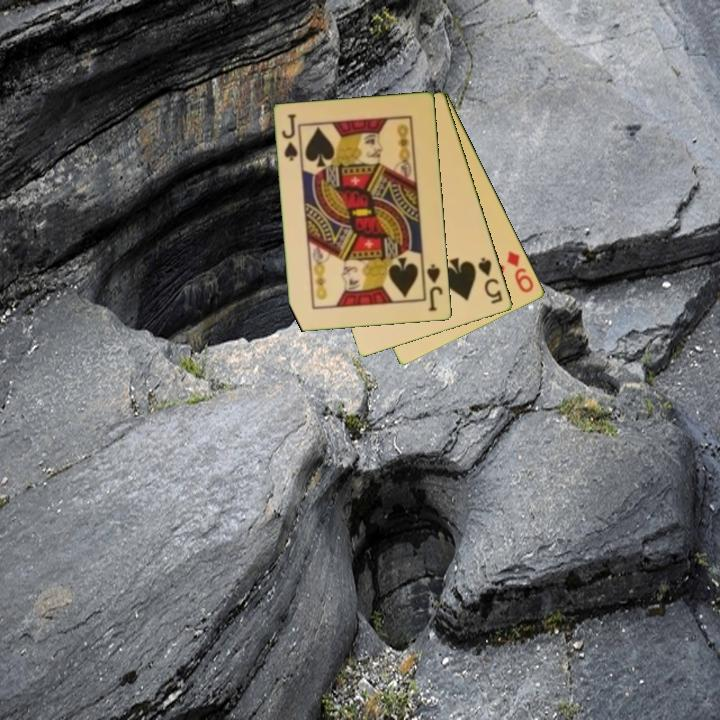5s: (475, 254, 506, 307)
9d: (504, 247, 537, 296)
Js: (424, 261, 446, 314), (279, 111, 301, 164)
